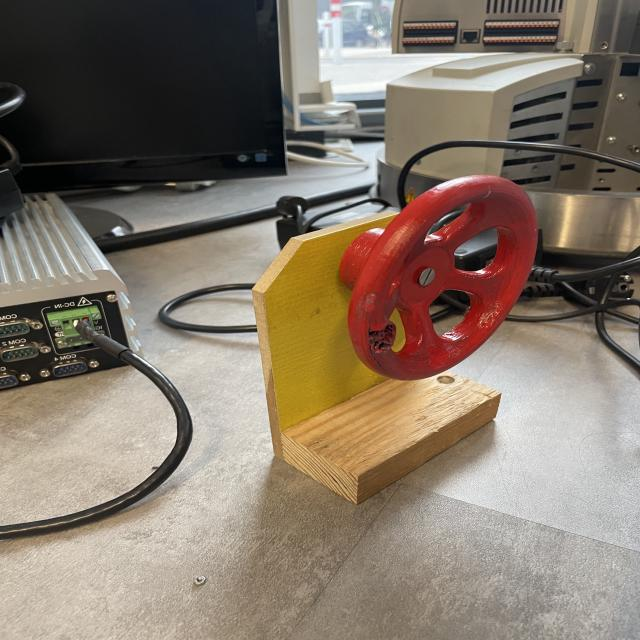Wheel Handle Valve Threaded: (338, 172, 542, 381)
